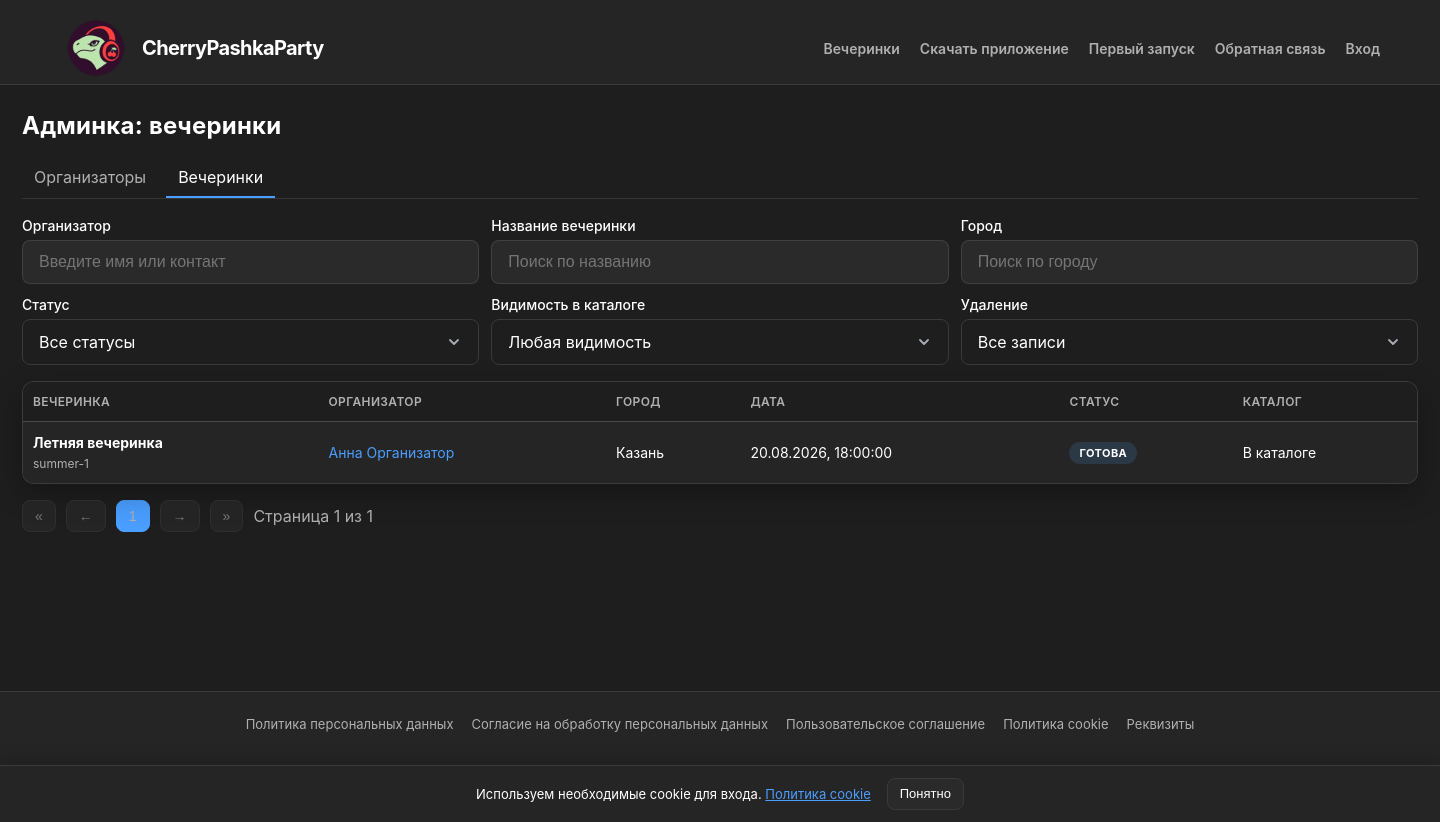
admin parties page behavior › does not show a requested lifecycle as saved when the server rejects it
Click the link "Летняя вечеринка".
click(98, 442)  # box [33, 434, 163, 451]
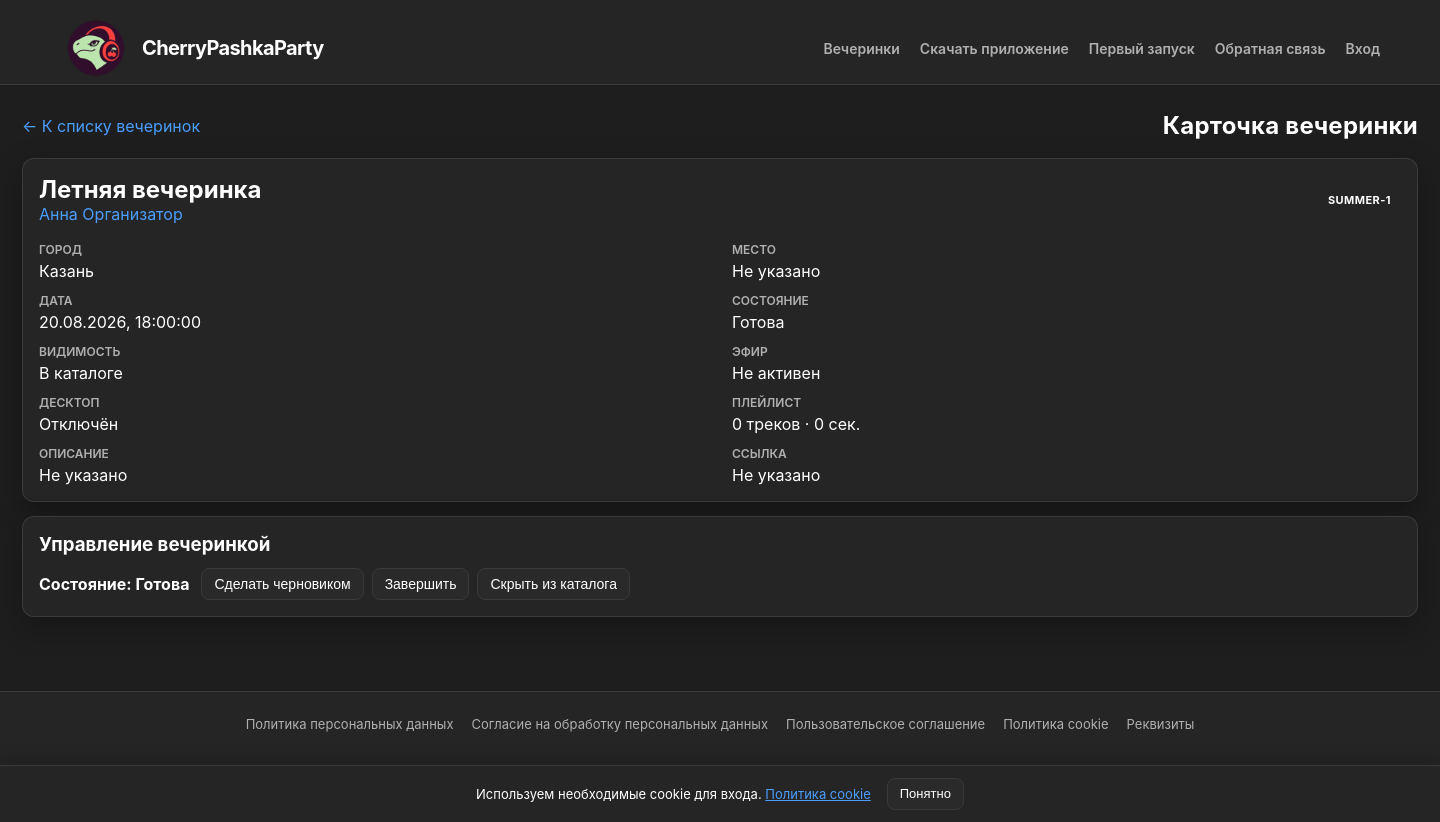
expect the heading "Карточка вечеринки" is shown: met, box [1163, 111, 1418, 140]
Click the button "Сделать черновиком".
click(282, 584)  # box [201, 568, 364, 600]
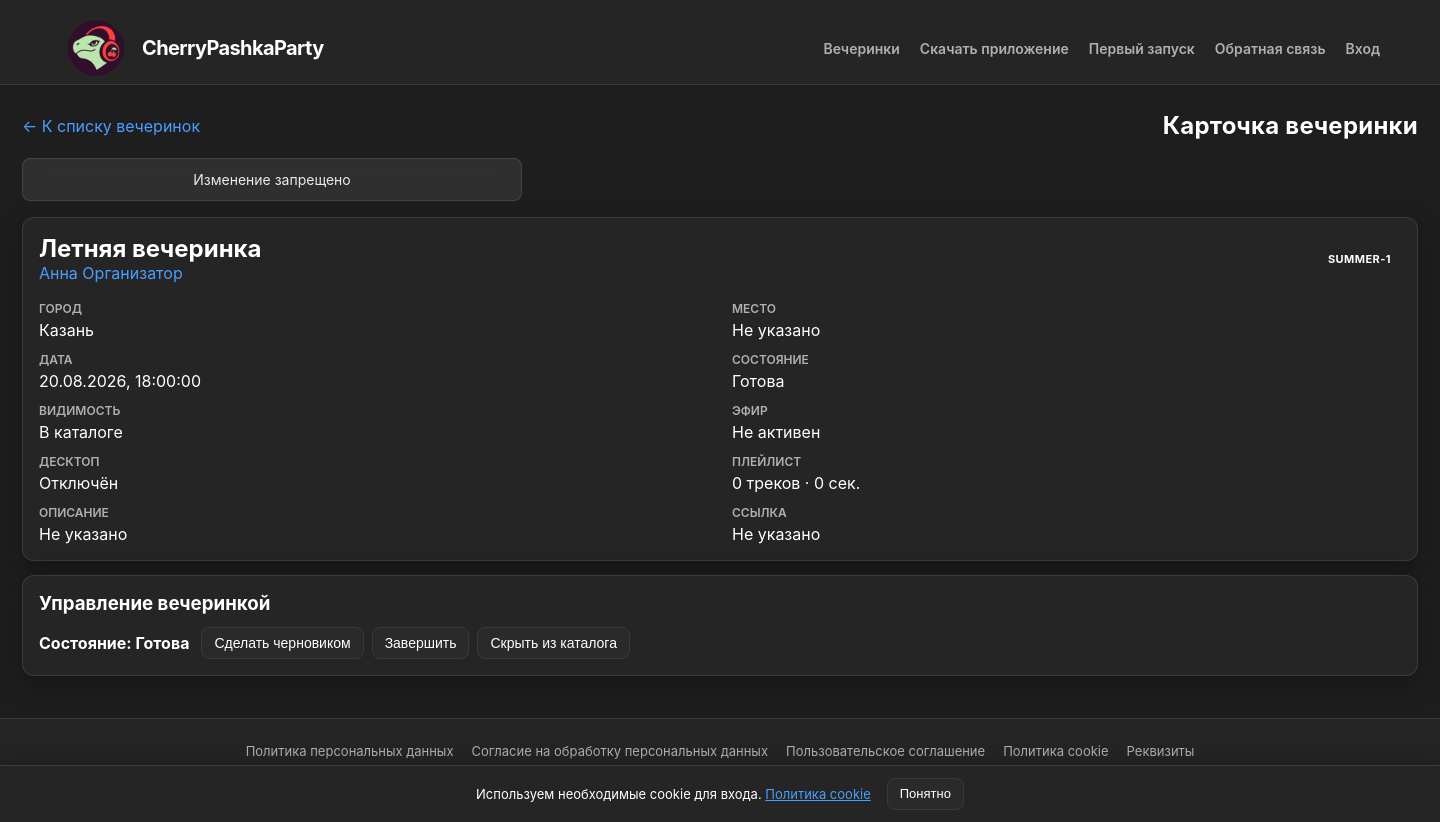
expect the text "Состояние: Готова" is shown: met, box [39, 633, 189, 653]
expect the message reads "Изменение запрещено": met, box [193, 171, 351, 188]
